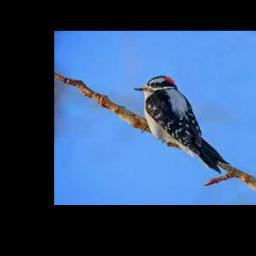Woodpecker: (133, 76, 229, 173)
